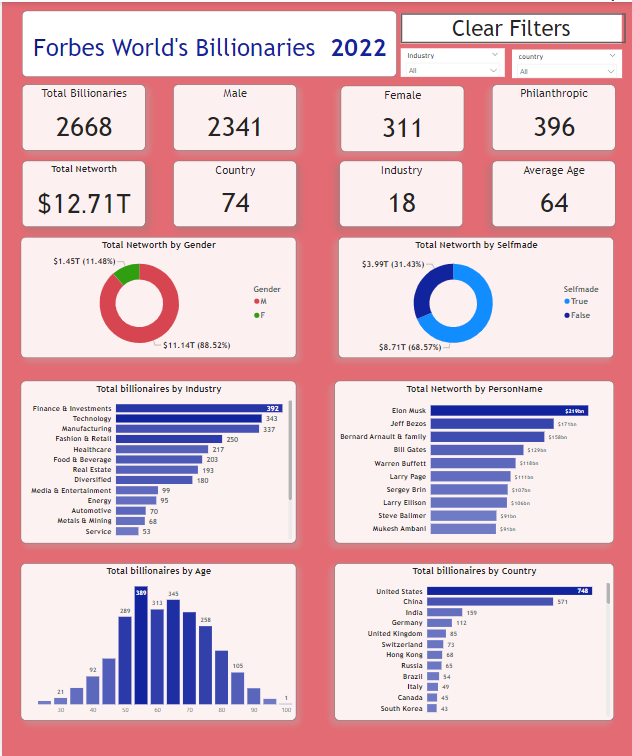

This screenshot's page, from the dashboard's own definition file:
{"tool":"powerbi","page":{"name":"forbes billionaires 2022 dashboard ","canvas":[1250,1500],"ordinal":0},"visuals":[{"type":"textbox","title":"Forbes World''s Billionaries  2022","box":[38.7,17.2,743.5,131.1],"z":0},{"type":"card","title":"Total Billionaries","fields":{"Values":["Measures Table.Total billionaires"]},"box":[38.7,163.3,245,131.1],"z":1000},{"type":"card","title":"Female","fields":{"Values":["Measures Table.Female"]},"box":[671.1,165.5,245,131.1],"z":2000},{"type":"card","title":"Male","fields":{"Values":["Measures Table.Male"]},"box":[338.8,163.3,245,131.1],"z":3000},{"type":"card","title":"Total Networth","fields":{"Values":["Measures Table.Total Networth"]},"box":[38.7,315.9,245,131.1],"z":4000},{"type":"card","title":"Industry","fields":{"Values":["Measures Table.Industry"]},"box":[670.4,313.7,245,131.1],"z":5000},{"type":"donutChart","title":"Total Networth by Gender","fields":{"Y":["Measures Table.Total Networth"],"Category":["forbes_2022_billionaires.gender"]},"box":[38.3,466.7,546.7,240],"z":6000},{"type":"donutChart","title":"Total Networth by Selfmade","fields":{"Category":["forbes_2022_billionaires.selfMade"],"Y":["Measures Table.Total Networth"]},"box":[666.7,466.7,546.7,240],"z":7000},{"type":"barChart","fields":{"Category":["forbes_2022_billionaires.Industry"],"Y":["Measures Table.Total billionaires"]},"box":[38,750,546,322],"z":8000},{"type":"clusteredBarChart","title":"Total Networth by PersonName","fields":{"Category":["forbes_2022_billionaires.personName"],"Y":["Measures Table.Total Networth"]},"box":[660,750,554,322],"z":9000},{"type":"columnChart","fields":{"Category":["forbes_2022_billionaires.age (bins)"],"Y":["Measures Table.Total billionaires"]},"box":[38,1114,546,312],"z":10000},{"type":"card","title":"Country","fields":{"Values":["Measures Table.Country"]},"box":[339.5,313.7,245,131.1],"z":11000},{"type":"card","title":"Philanthropic","fields":{"Values":["Measures Table.Philanthropic"]},"box":[971.2,163.3,245,131.1],"z":12000},{"type":"card","title":"Average Age","fields":{"Values":["Measures Table.Average Age"]},"box":[971.2,315.9,245,131.1],"z":13000},{"type":"barChart","title":"Total billionaires by Country","fields":{"Category":["forbes_2022_billionaires.country"],"Y":["Measures Table.Total billionaires"]},"box":[660,1114,554,312],"z":14000},{"type":"textbox","title":"Text Filter","box":[793.4,37.2,446.3,81.8],"z":20500},{"type":"actionButton","title":"Filter Button","box":[793.3,36.7,446.7,81.7],"z":21000}]}

Visuals, with their boxes in screenshot pixels (x1, y1, x2, y2), scaled from the page's 1250x1500 canvas onto the 632x756 screenshot:
"Forbes World''s Billionaries  2022" textbox: [20,9,395,75]
"Total Billionaries" card: [20,82,143,148]
"Female" card: [339,83,463,149]
"Male" card: [171,82,295,148]
"Total Networth" card: [20,159,143,225]
"Industry" card: [339,158,463,224]
"Total Networth by Gender" donutChart: [19,235,296,356]
"Total Networth by Selfmade" donutChart: [337,235,613,356]
barChart - forbes_2022_billionaires.Industry x Measures Table.Total billionaires: [19,378,295,540]
"Total Networth by PersonName" clusteredBarChart: [334,378,614,540]
columnChart - forbes_2022_billionaires.age (bins) x Measures Table.Total billionaires: [19,561,295,719]
"Country" card: [172,158,296,224]
"Philanthropic" card: [491,82,615,148]
"Average Age" card: [491,159,615,225]
"Total billionaires by Country" barChart: [334,561,614,719]
"Text Filter" textbox: [401,19,627,60]
"Filter Button" actionButton: [401,18,627,60]
